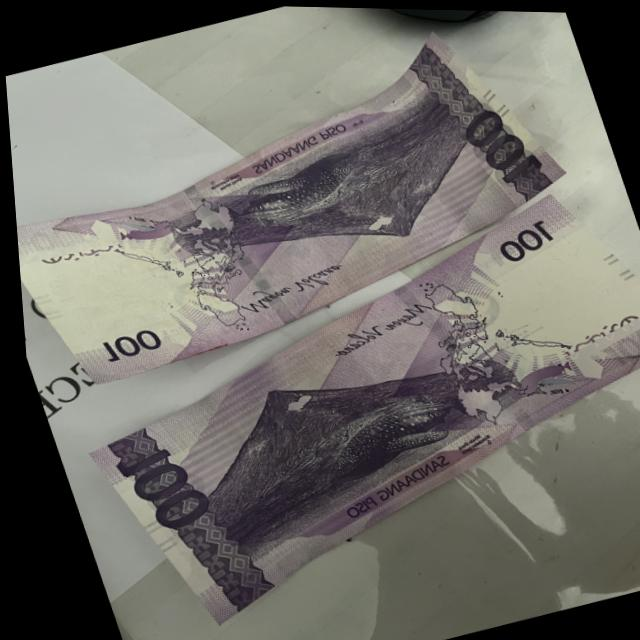100_whale: (299, 367, 493, 493), (184, 134, 385, 255)
100_whale_watermark: (495, 351, 580, 411), (106, 197, 189, 254)
